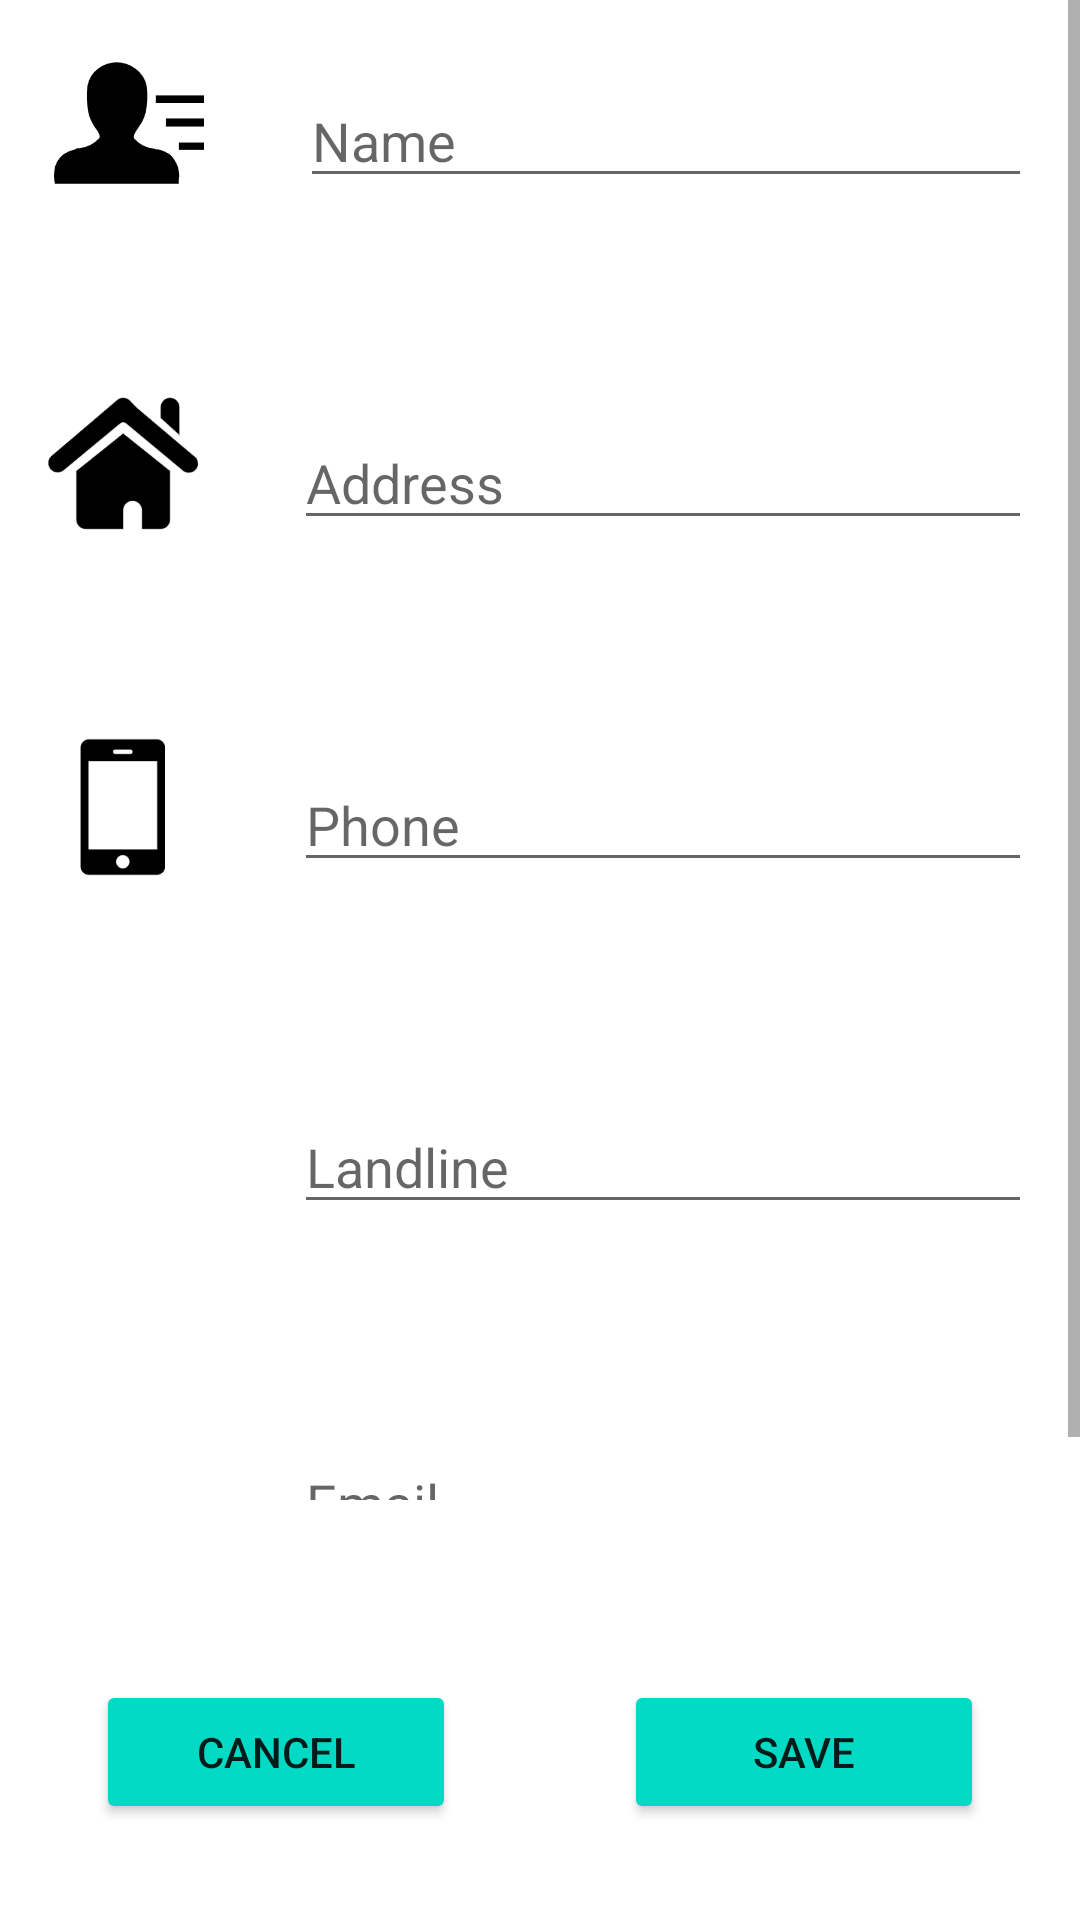

Where icons sit on this 1080*1920 app screen, as rect(x1, y1, x2, y2):
contack: rect(54, 62, 204, 184)
